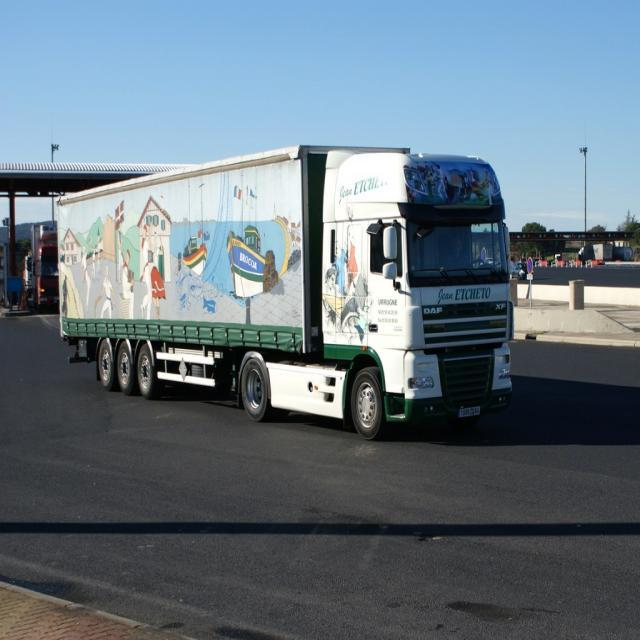bicycle: (52, 138, 520, 442), (32, 222, 58, 306), (22, 251, 36, 296)
